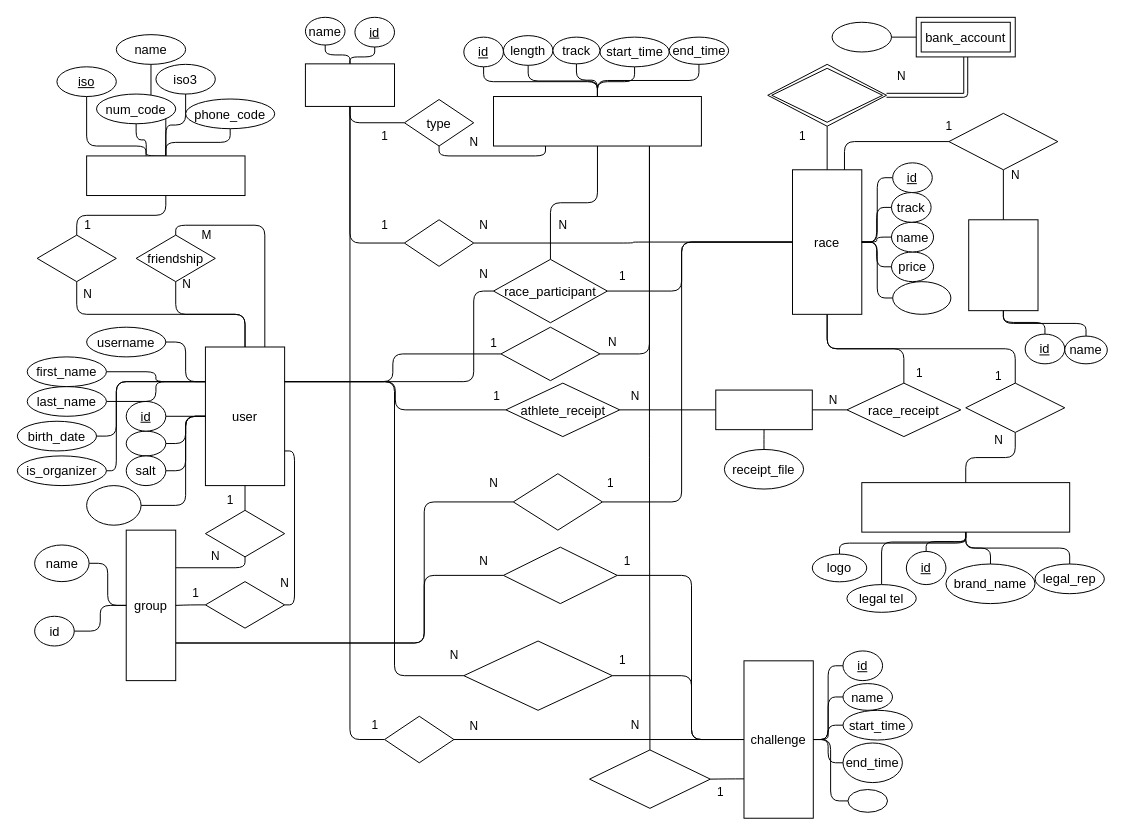
This 1125x836 diagram has some shape labels left out. Each missing label, with the box of its shape:
activity: (493, 96, 701, 146)
activity_athlete: (500, 326, 600, 381)
activity_type: (304, 63, 395, 106)
admin: (204, 509, 285, 557)
category: (968, 219, 1038, 311)
challenge_activity: (589, 749, 710, 808)
challenge_group: (502, 546, 617, 604)
challenge_participant: (463, 640, 612, 710)
chtype: (384, 715, 454, 763)
country: (86, 155, 245, 196)
goal: (847, 789, 888, 812)
hash: (125, 430, 166, 456)
iban: (831, 21, 891, 52)
lives in: (36, 234, 116, 282)
member: (204, 581, 285, 628)
on_date: (892, 281, 951, 314)
photo: (86, 485, 141, 525)
race_account: (767, 63, 887, 126)
race_category: (948, 112, 1058, 170)
race_group: (512, 473, 602, 530)
race_sponsor: (965, 382, 1065, 432)
receipt: (715, 389, 812, 430)
rtype: (403, 219, 474, 266)
sponsor: (861, 482, 1070, 532)
